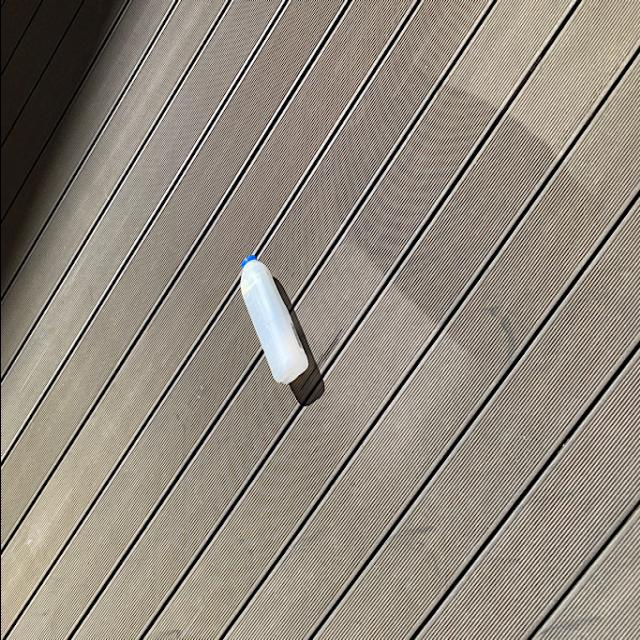litter: (238, 248, 309, 392)
